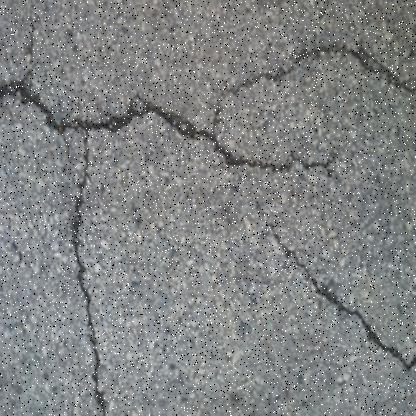Cracks: (0, 34, 415, 178), (267, 210, 416, 376), (69, 121, 110, 416)
